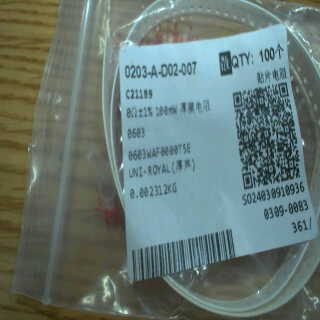0R: (125, 103, 178, 144)
